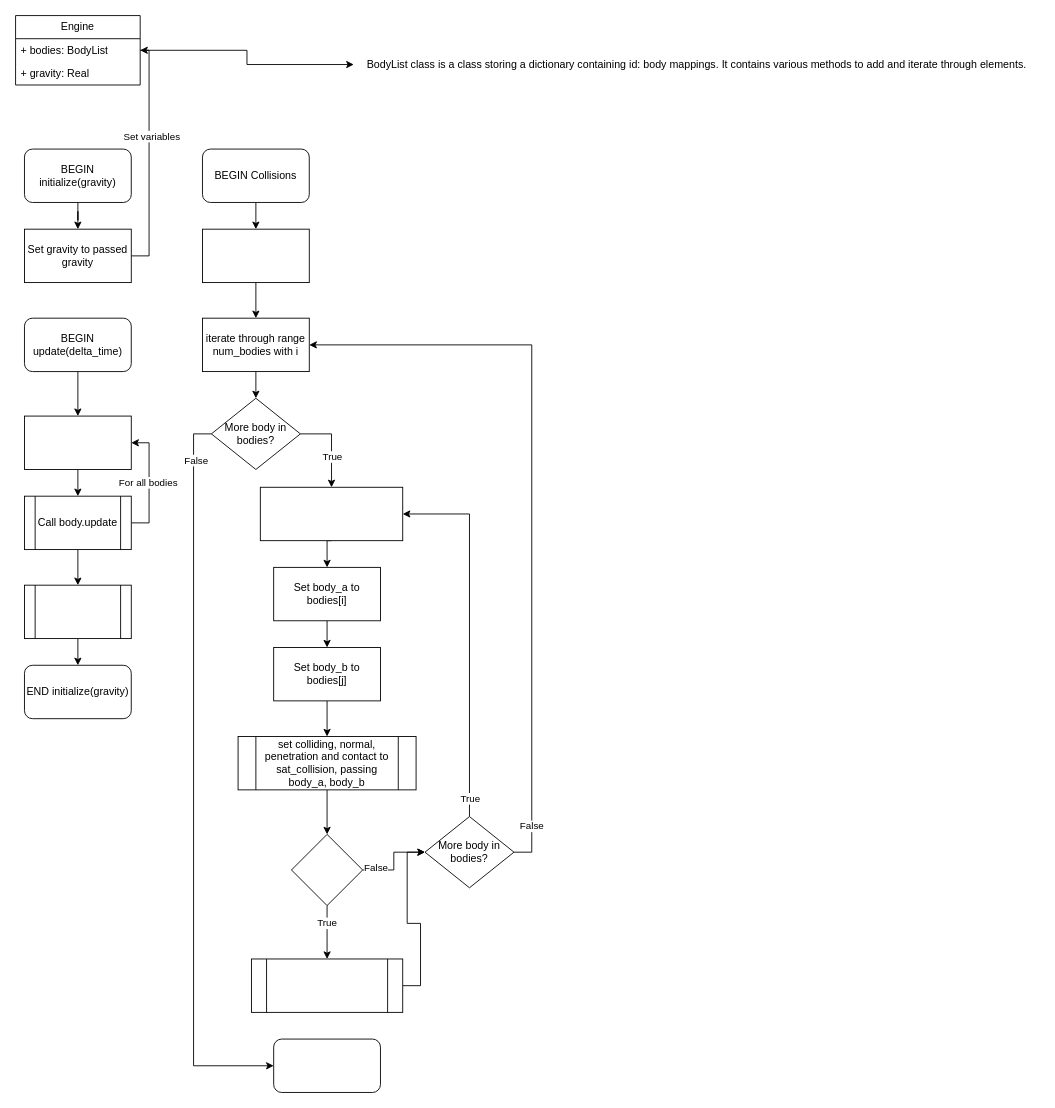
Image size: 1055x1108. Some labels were removed from this diagram. The centre of each missing label's shape, as x and y in pixels:
"Call collisions" goes at pixel 77 611.
"Call resolve_collision, passing body_a, body_b, normal, penetration, contact" goes at pixel 327 985.
"END Collisions" goes at pixel 326 1065.
"Is colliding?" goes at pixel 327 869.
"Iterate through bodies and get body" goes at pixel 77 442.
"iterate through range i + 1, num_bodies with j" goes at pixel 331 513.
"Set num_bodies to length of bodies" goes at pixel 255 255.
